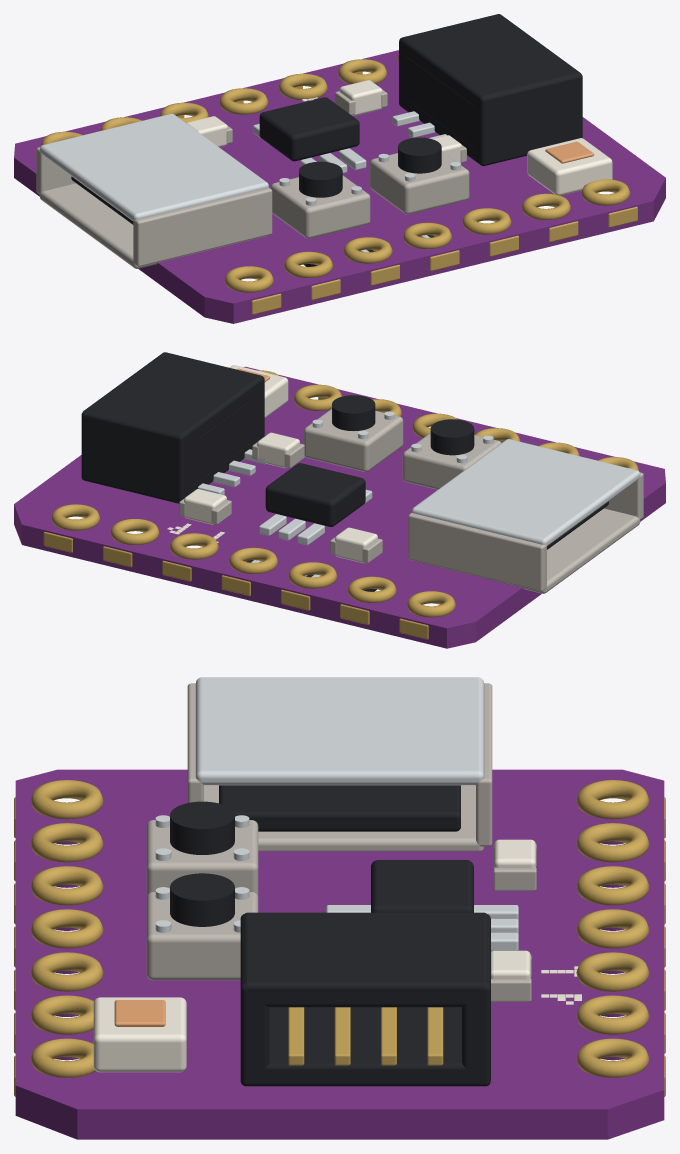
Rendered from boards-05.glb.
3 views of the same model, one above another, from view 1: azimuth 30°, elevation 25°; view 2: azimuth 150°, elevation 25°; view 3: azimuth 270°, elevation 25° (orthographic). The views are drawn at different scales.
Visible parts, largest first — view 1: board, usb, connector, pads, reset, boot, chip, led; view 2: board, usb, connector, pads, chip, reset, boot, led; view 3: board, usb, connector, pads, reset, boot, chip, led.
Part boxes in pixels (x1,y1,x2,y2): board: (14, 50, 665, 323); usb: (36, 113, 272, 268); connector: (392, 14, 582, 166); pads: (41, 55, 637, 314); reset: (370, 137, 469, 214); boot: (271, 161, 370, 238); chip: (253, 97, 366, 173); led: (527, 138, 612, 195); board: (14, 366, 665, 648); usb: (408, 439, 643, 593); connector: (81, 352, 266, 503); pads: (43, 370, 638, 639); chip: (259, 463, 372, 545); reset: (304, 395, 403, 471); boot: (402, 419, 501, 489); led: (229, 365, 288, 417); board: (15, 769, 664, 1139); usb: (187, 677, 492, 851); connector: (240, 912, 490, 1086); pads: (14, 780, 665, 1096); reset: (146, 873, 258, 980); boot: (146, 801, 258, 896); chip: (326, 860, 518, 951); led: (93, 997, 186, 1072).
Size of the model in its own units: 1.63 by 0.4705 by 1.27.
